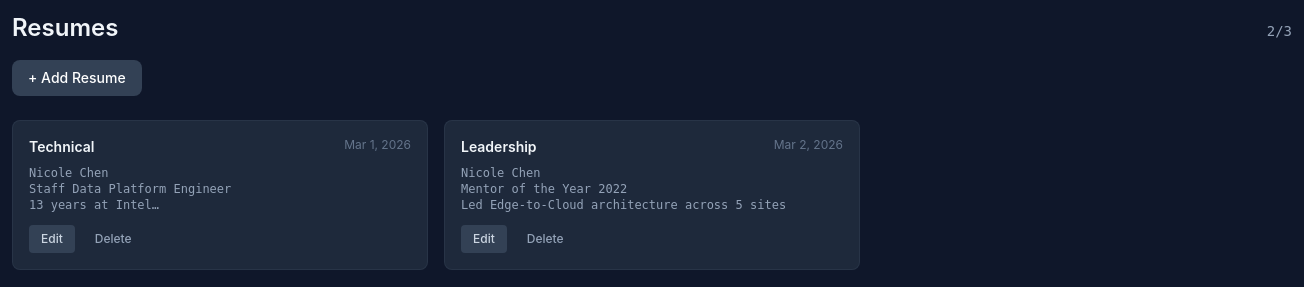
ResumesPage › delete resume → card removed
Expected: the heading "Technical" is shown, [29,137,94,157]
Click the button "Delete" below "Technical". click: (113, 239)
box: [83,225,144,253]
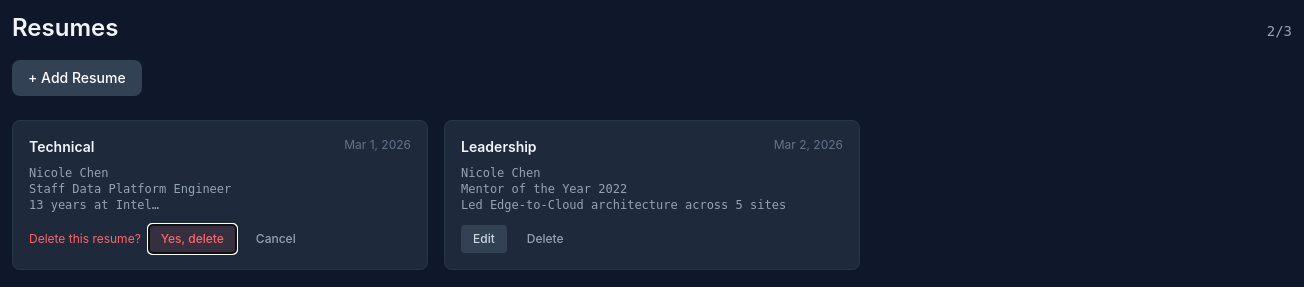
// Confirmation appears — click "Yes, delete"
Click the button "Yes, delete". click: (192, 239)
box: [149,225,236,253]
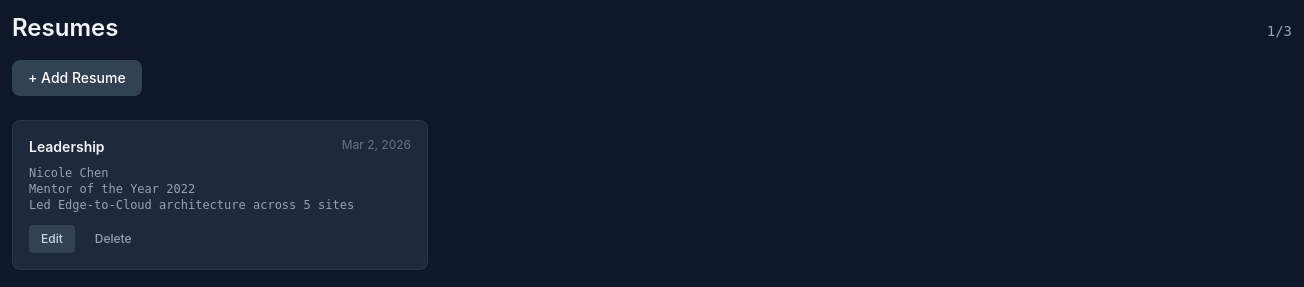
Expected: the heading "Technical" is gone
Expected: the text "1/3" is shown, [1267,21,1292,41]
